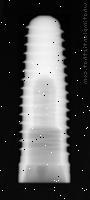Blue Sky Bio: (15, 14, 71, 183)
